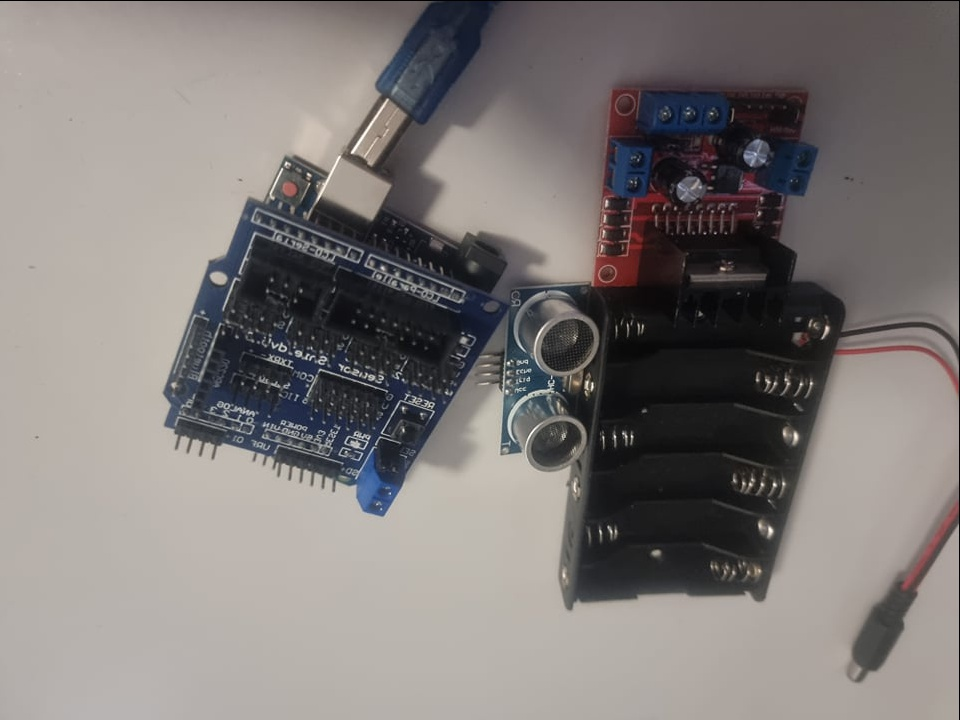5V EXPANSION: (166, 211, 507, 518)
BATTERY BOX: (558, 278, 847, 617)
MOTOR: (604, 84, 826, 328)
SENSOR: (502, 283, 598, 476)
UNO R3: (263, 132, 512, 257)
